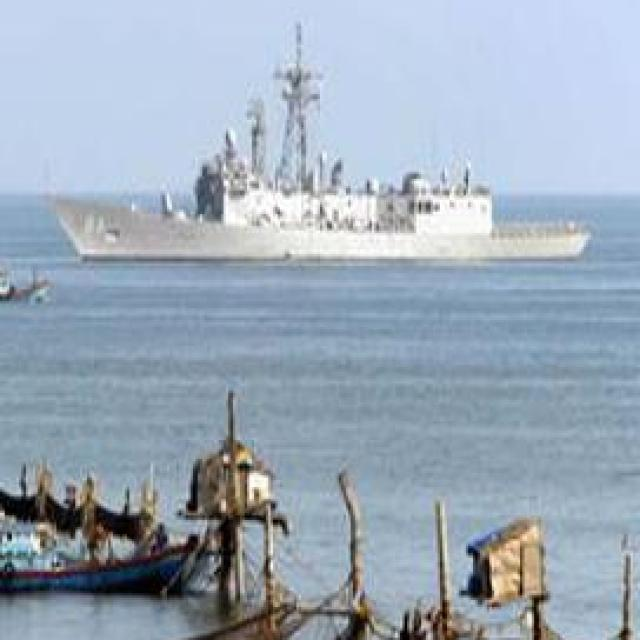navalvessels: (45, 15, 590, 266)
